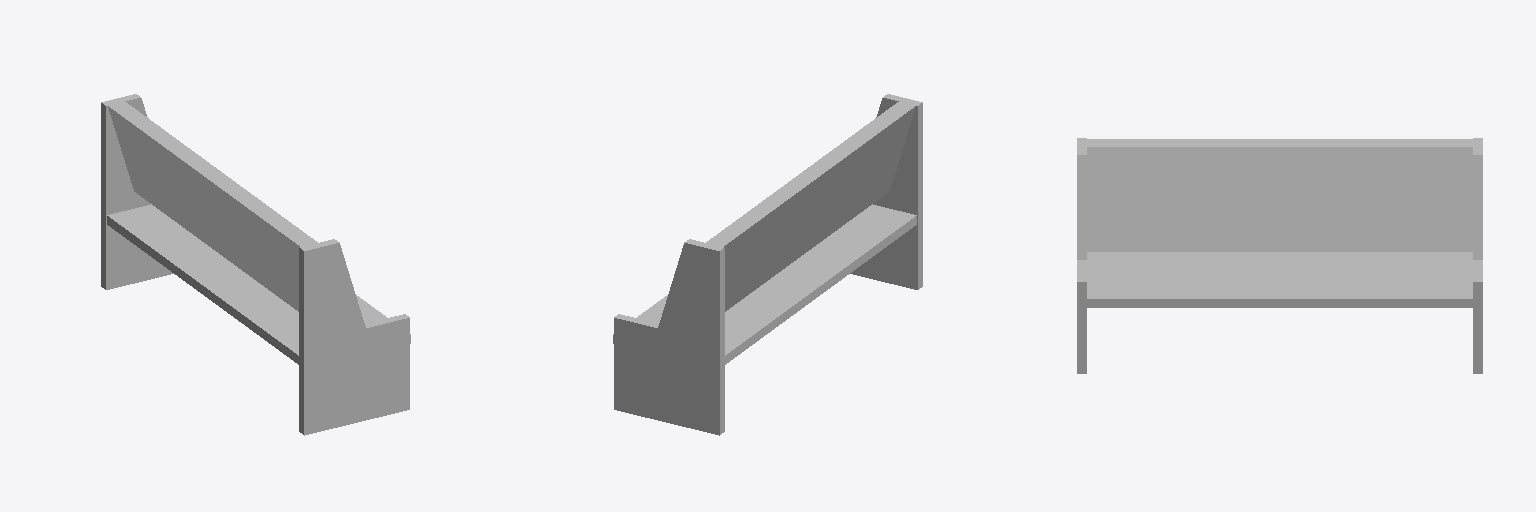
Rendered from BenchReligion.obj.
3 views of the same model, side by side, from view 1: azimuth 30°, elevation 25°; view 2: azimuth 150°, elevation 25°; view 3: azimuth 270°, elevation 25° (orthographic).
Visible parts, largest first — view 1: Cube; view 2: Cube; view 3: Cube.
Boxes of the visible parts, x1,y1,x2,y2 form: Cube: [101, 94, 410, 435]; Cube: [613, 94, 922, 435]; Cube: [1077, 138, 1482, 373].
Size of the model in its own units: 0.604 by 1 by 2.